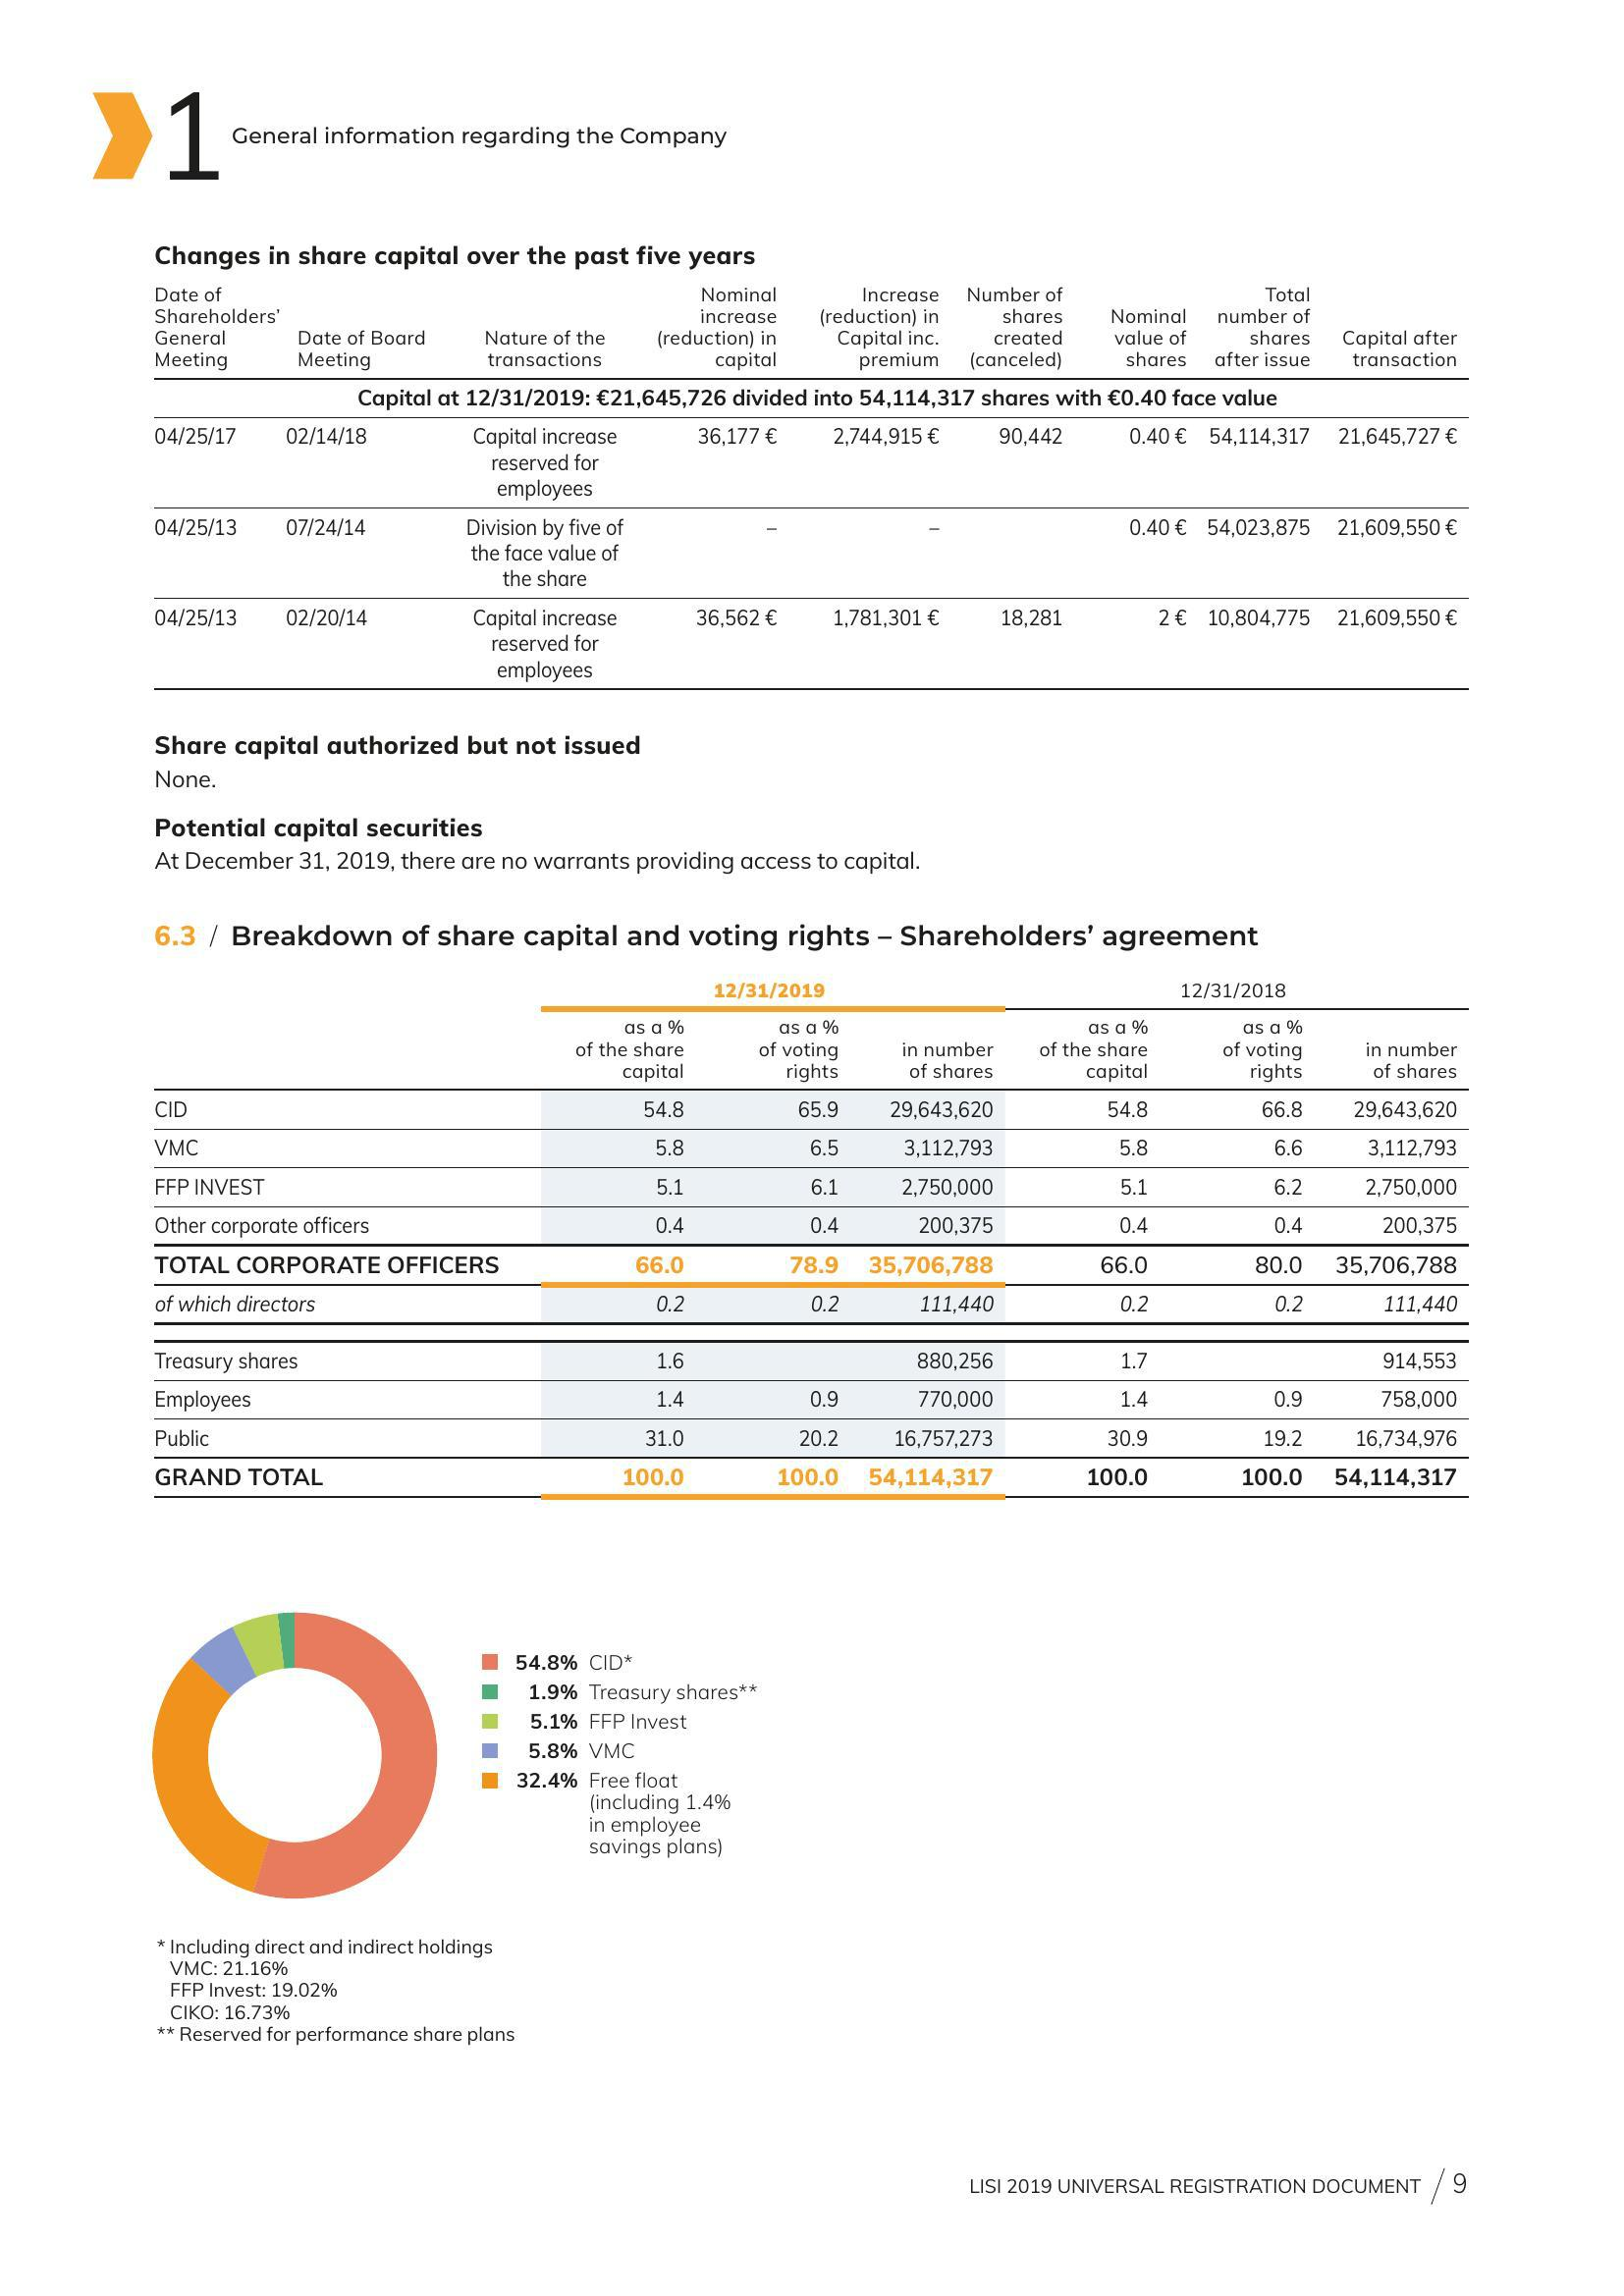cell: (149, 1008, 541, 1089), (439, 276, 649, 378), (439, 597, 649, 689), (439, 418, 649, 508), (439, 508, 649, 597), (269, 276, 439, 378), (149, 968, 541, 1008), (149, 1089, 541, 1130), (149, 1166, 541, 1207), (649, 276, 801, 378), (801, 276, 954, 378), (269, 597, 439, 689), (541, 1008, 731, 1089), (269, 418, 439, 508), (269, 508, 439, 597), (149, 1207, 541, 1245), (149, 1245, 541, 1284), (149, 1284, 541, 1323), (149, 1381, 541, 1419), (149, 1419, 541, 1458), (149, 1458, 541, 1497), (1329, 276, 1471, 378), (1016, 1008, 1195, 1089), (149, 1130, 541, 1166), (149, 1344, 541, 1381), (954, 276, 1095, 378), (649, 597, 801, 689), (801, 597, 954, 689), (649, 418, 801, 508), (801, 418, 954, 508), (649, 508, 801, 597), (801, 508, 954, 597), (1200, 276, 1329, 378), (1329, 597, 1471, 689), (954, 597, 1095, 689), (1329, 418, 1471, 508), (1329, 508, 1471, 597), (954, 418, 1095, 508), (954, 508, 1095, 597), (863, 1008, 1016, 1089), (149, 276, 269, 378), (1200, 597, 1329, 689), (1200, 418, 1329, 508), (1200, 508, 1329, 597), (1329, 1008, 1469, 1089), (149, 597, 269, 689), (1195, 1008, 1329, 1089), (1095, 276, 1200, 378), (149, 418, 269, 508), (149, 508, 269, 597), (731, 1008, 863, 1089), (1095, 597, 1200, 689), (1095, 418, 1200, 508), (1095, 508, 1200, 597), (439, 378, 649, 418), (149, 1323, 541, 1344), (541, 968, 731, 1008), (541, 1089, 731, 1130), (541, 1166, 731, 1207), (541, 1207, 731, 1245), (541, 1245, 731, 1284), (541, 1284, 731, 1323), (541, 1381, 731, 1419), (541, 1419, 731, 1458), (541, 1458, 731, 1497), (1016, 968, 1195, 1008), (1016, 1089, 1195, 1130), (1016, 1166, 1195, 1207), (541, 1130, 731, 1166), (541, 1344, 731, 1381), (1016, 1207, 1195, 1245), (1016, 1245, 1195, 1284), (1016, 1284, 1195, 1323), (1016, 1381, 1195, 1419), (1016, 1419, 1195, 1458), (1016, 1458, 1195, 1497), (269, 378, 439, 418), (1016, 1130, 1195, 1166), (1016, 1344, 1195, 1381), (863, 968, 1016, 1008), (863, 1089, 1016, 1130), (863, 1166, 1016, 1207), (649, 378, 801, 418), (801, 378, 954, 418), (863, 1207, 1016, 1245), (863, 1245, 1016, 1284), (863, 1284, 1016, 1323), (863, 1381, 1016, 1419), (863, 1419, 1016, 1458), (863, 1458, 1016, 1497), (1329, 378, 1471, 418), (1329, 968, 1469, 1008), (1329, 1089, 1469, 1130), (1329, 1166, 1469, 1207), (954, 378, 1095, 418), (863, 1130, 1016, 1166), (863, 1344, 1016, 1381), (1329, 1207, 1469, 1245), (1329, 1245, 1469, 1284), (1329, 1284, 1469, 1323), (1329, 1381, 1469, 1419), (1329, 1419, 1469, 1458), (1329, 1458, 1469, 1497), (1195, 968, 1329, 1008), (1195, 1089, 1329, 1130), (1195, 1166, 1329, 1207), (731, 968, 863, 1008), (731, 1089, 863, 1130), (731, 1166, 863, 1207), (1329, 1130, 1469, 1166), (1329, 1344, 1469, 1381), (1200, 378, 1329, 418), (1195, 1207, 1329, 1245), (1195, 1245, 1329, 1284), (1195, 1284, 1329, 1323), (1195, 1381, 1329, 1419), (1195, 1419, 1329, 1458), (1195, 1458, 1329, 1497), (731, 1207, 863, 1245), (731, 1245, 863, 1284), (731, 1284, 863, 1323), (731, 1381, 863, 1419), (731, 1419, 863, 1458), (731, 1458, 863, 1497), (1195, 1130, 1329, 1166), (1195, 1344, 1329, 1381), (731, 1130, 863, 1166), (731, 1344, 863, 1381), (149, 378, 269, 418), (1095, 378, 1200, 418), (541, 1323, 731, 1344), (1016, 1323, 1195, 1344), (863, 1323, 1016, 1344), (1329, 1323, 1469, 1344), (1195, 1323, 1329, 1344), (731, 1323, 863, 1344)
table: (149, 968, 1469, 1497), (149, 276, 1471, 689)
